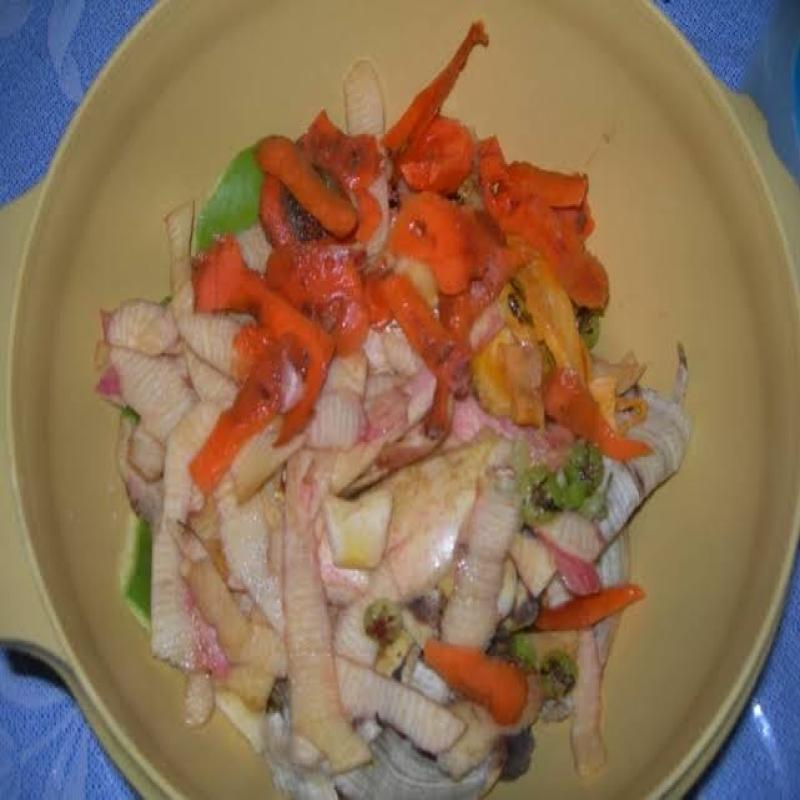vegetable peels: (187, 236, 337, 494), (117, 397, 223, 726), (283, 451, 371, 771), (477, 136, 609, 311), (381, 23, 490, 190), (167, 202, 253, 377), (440, 492, 523, 651), (335, 656, 469, 753), (381, 194, 506, 294), (111, 347, 199, 480), (542, 365, 652, 461), (256, 138, 358, 239), (425, 636, 529, 725), (323, 493, 391, 566), (533, 587, 646, 630), (308, 390, 365, 448)
